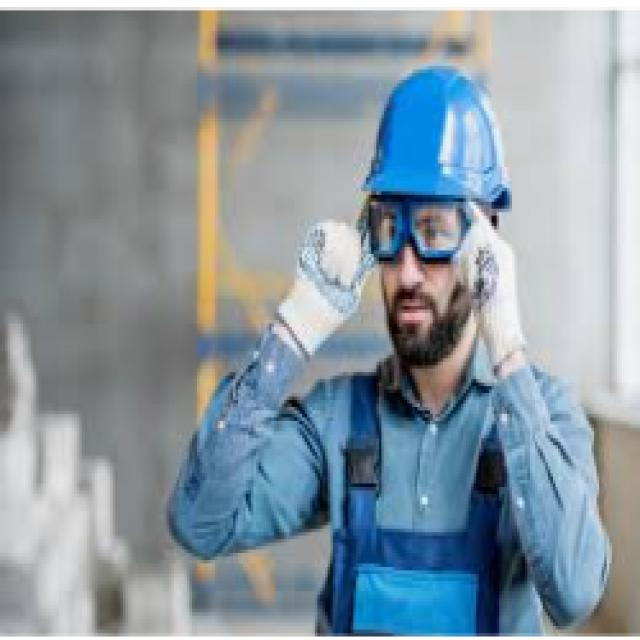glasses: (358, 180, 505, 268)
